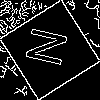N: (25, 25, 77, 71)
